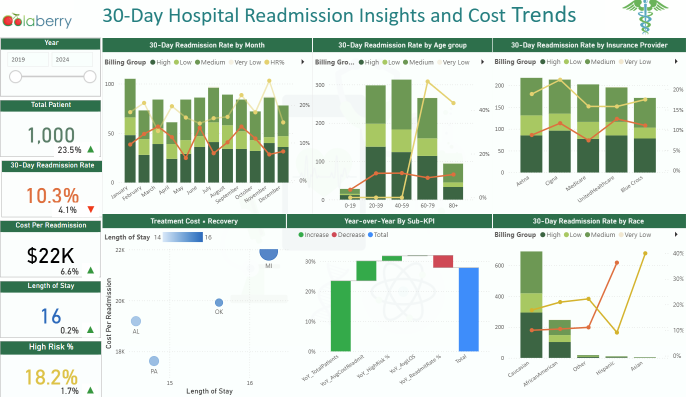

This screenshot's page, from the dashboard's own definition file:
{"tool":"powerbi","page":{"name":"Original Readmission Insights & Cost Trends","canvas":[1366,800],"ordinal":0},"visuals":[{"type":"textbox","box":[147.8,1,1056,81.6],"z":0},{"type":"image","box":[0,1,147.8,96.6],"z":1000},{"type":"image","box":[1203.9,1,161.6,81.8],"z":2000},{"type":"slicer","title":"Year","fields":{"Values":["DateTable.Year"]},"box":[0,82.7,201.5,117.8],"z":3000},{"type":"card","title":"30-Day Readmission Rate","fields":{"Values":["KPI Measures.ReadmitRate %"]},"box":[3,327,201,113.3],"z":4000},{"type":"card","title":"Total Patient","fields":{"Values":["KPI Measures.TotalPatients"]},"box":[0,207.2,201,113],"z":5000},{"type":"card","title":"Cost Per Readmission","fields":{"Values":["KPI Measures.AvgCostPerReadmit_30"]},"box":[0,447.1,201,113],"z":6000},{"type":"card","title":"Length of Stay","fields":{"Values":["KPI Measures.AvgLOS"]},"box":[0,566.9,201,113],"z":7000},{"type":"lineStackedColumnComboChart","fields":{"Category":["DateTable.MonthName"],"Y2":["KPI Measures.HighRisk %","KPI Measures.30-Day Readmission Rate %"],"Y":["KPI Measures.TotalPatients"],"Series":["30PatientHospitalAdmission_Combined.BillingGroup"]},"box":[203,111.3,418.7,322.2],"z":8000},{"type":"lineStackedColumnComboChart","fields":{"Category":["30PatientHospitalAdmission_Combined.AgeRange"],"Y2":["KPI Measures.HighRisk %","KPI Measures.30-Day Readmission Rate %"],"Y":["KPI Measures.TotalPatients"],"Series":["30PatientHospitalAdmission_Combined.BillingGroup"]},"box":[621.7,111.3,357.6,322.2],"z":9000},{"type":"lineStackedColumnComboChart","fields":{"Category":["30PatientHospitalAdmission_Combined.InsuranceProvider"],"Y":["KPI Measures.TotalPatients"],"Y2":["KPI Measures.HighRisk %","KPI Measures.30-Day Readmission Rate %"],"Series":["30PatientHospitalAdmission_Combined.BillingGroup"]},"box":[979.3,110.3,386.2,322.2],"z":10000},{"type":"scatterChart","title":"Impact of Length of Stay on Billing Amount by Medical Condition","fields":{"X":["KPI Measures.AvgLOS"],"Y":["KPI Measures.AvgCostReadmit"],"Category":["30PatientHospitalAdmission_Combined.State"],"Size":["KPI Measures.TotalPatients"]},"box":[203,462.1,385.2,337.9],"z":11000},{"type":"waterfallChart","title":"Impact of Length of Stay on Billing Amount by Medical Condition","fields":{"Category":["SubKPIs.KPI"],"Y":["SubKPIs.Waterfall_SubKPI_Values"]},"box":[588.2,455.2,391.1,344.8],"z":12000},{"type":"lineStackedColumnComboChart","title":"Impact of Length of Stay on Billing Amount by Medical Condition","fields":{"Category":["30PatientHospitalAdmission_Combined.Race"],"Y2":["KPI Measures.30-Day Readmission Rate %","KPI Measures.HighRisk %"],"Y":["KPI Measures.TotalPatients"],"Series":["30PatientHospitalAdmission_Combined.BillingGroup"]},"box":[979.3,455.2,386.2,344.8],"z":13000},{"type":"textbox","box":[202.9,82.9,418.6,30],"z":14000},{"type":"textbox","box":[621.4,82.9,358.6,30],"z":15000},{"type":"textbox","box":[980,82.9,385.7,30],"z":16000},{"type":"textbox","box":[202.9,432.9,367.1,30],"z":17000},{"type":"textbox","box":[570,432.9,410,30],"z":18000},{"type":"textbox","box":[980,432.9,385.7,30],"z":19000},{"type":"card","title":"High Risk %","fields":{"Values":["KPI Measures.HighRisk %"]},"box":[0,686.7,202,113.3],"z":24000},{"type":"card","fields":{"Values":["KPI Measures.YoY_AvgCostReadmit"]},"box":[107.5,533.8,62,29.6],"z":27000},{"type":"card","fields":{"Values":["KPI Measures.YoY_HighRisk %"]},"box":[107.5,771,62,29],"z":28000},{"type":"card","fields":{"Values":["KPI Measures.YoY_AvgLOS"]},"box":[107.4,651.2,62.1,29.6],"z":29000},{"type":"card","fields":{"Values":["KPI Measures.YoY_TotalPatients_Arrow"]},"box":[163.3,290.4,34.1,30],"z":30000},{"type":"card","fields":{"Values":["KPI Measures.YoY_TotalPatients"]},"box":[107.5,291.4,62,28.9],"z":31000},{"type":"card","fields":{"Values":["KPI Measures.YoY_ReadmitRate_Percent"]},"box":[103.3,411.2,62,28.9],"z":32000},{"type":"card","fields":{"Values":["KPI Measures.YoY_ReadmitRate_Arrow"]},"box":[164.3,411.2,33.1,28.9],"z":33000},{"type":"card","fields":{"Values":["KPI Measures.YoY_AvgCostReadmit_Arrow"]},"box":[163.3,531.1,34.1,28.9],"z":34000},{"type":"card","fields":{"Values":["KPI Measures.YoY_AvgLOS_Arrow"]},"box":[163.3,649.9,33.1,30],"z":35000},{"type":"card","fields":{"Values":["KPI Measures.YoY_HighRiskArrow"]},"box":[163.3,770.8,33.1,27.9],"z":36000}]}

Visuals, with their boxes in screenshot pixels (x1, y1, x2, y2), scaled from the page's 1366x800 canvas onto the 686x397 screenshot:
textbox: [x1=74, y1=0, x2=605, y2=41]
image: [x1=0, y1=0, x2=74, y2=48]
image: [x1=605, y1=0, x2=685, y2=41]
"Year" slicer: [x1=0, y1=41, x2=101, y2=99]
"30-Day Readmission Rate" card: [x1=2, y1=162, x2=102, y2=218]
"Total Patient" card: [x1=0, y1=103, x2=101, y2=159]
"Cost Per Readmission" card: [x1=0, y1=222, x2=101, y2=278]
"Length of Stay" card: [x1=0, y1=281, x2=101, y2=337]
lineStackedColumnComboChart - DateTable.MonthName x KPI Measures.HighRisk %: [x1=102, y1=55, x2=312, y2=215]
lineStackedColumnComboChart - 30PatientHospitalAdmission_Combined.AgeRange x KPI Measures.HighRisk %: [x1=312, y1=55, x2=492, y2=215]
lineStackedColumnComboChart - 30PatientHospitalAdmission_Combined.InsuranceProvider x KPI Measures.TotalPatients: [x1=492, y1=55, x2=685, y2=215]
"Impact of Length of Stay on Billing Amount by Medical Condition" scatterChart: [x1=102, y1=229, x2=295, y2=396]
"Impact of Length of Stay on Billing Amount by Medical Condition" waterfallChart: [x1=295, y1=226, x2=492, y2=396]
"Impact of Length of Stay on Billing Amount by Medical Condition" lineStackedColumnComboChart: [x1=492, y1=226, x2=685, y2=396]
textbox: [x1=102, y1=41, x2=312, y2=56]
textbox: [x1=312, y1=41, x2=492, y2=56]
textbox: [x1=492, y1=41, x2=685, y2=56]
textbox: [x1=102, y1=215, x2=286, y2=230]
textbox: [x1=286, y1=215, x2=492, y2=230]
textbox: [x1=492, y1=215, x2=685, y2=230]
"High Risk %" card: [x1=0, y1=341, x2=101, y2=396]
card - KPI Measures.YoY_AvgCostReadmit: [x1=54, y1=265, x2=85, y2=280]
card - KPI Measures.YoY_HighRisk %: [x1=54, y1=383, x2=85, y2=396]
card - KPI Measures.YoY_AvgLOS: [x1=54, y1=323, x2=85, y2=338]
card - KPI Measures.YoY_TotalPatients_Arrow: [x1=82, y1=144, x2=99, y2=159]
card - KPI Measures.YoY_TotalPatients: [x1=54, y1=145, x2=85, y2=159]
card - KPI Measures.YoY_ReadmitRate_Percent: [x1=52, y1=204, x2=83, y2=218]
card - KPI Measures.YoY_ReadmitRate_Arrow: [x1=83, y1=204, x2=99, y2=218]
card - KPI Measures.YoY_AvgCostReadmit_Arrow: [x1=82, y1=264, x2=99, y2=278]
card - KPI Measures.YoY_AvgLOS_Arrow: [x1=82, y1=323, x2=99, y2=337]
card - KPI Measures.YoY_HighRiskArrow: [x1=82, y1=383, x2=99, y2=396]
